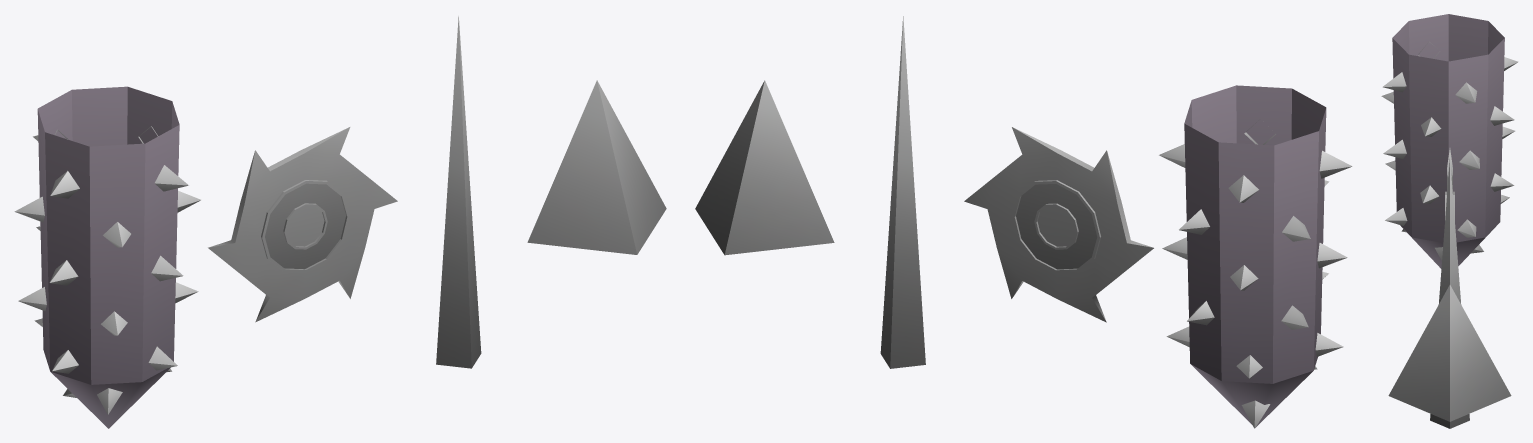
File: Trap.fbx
3 renders of one model, left to right at view 1: azimuth 30°, elevation 25°; view 2: azimuth 150°, elevation 25°; view 3: azimuth 270°, elevation 25°, orthographic. The views are drawn at different scales.
Parts seen in each view (by area): view 1: ThornyTrap, Saw, SmallTrap, BigTrap; view 2: ThornyTrap, Saw, SmallTrap, BigTrap; view 3: ThornyTrap, SmallTrap, BigTrap, Saw.
Part boxes in pixels (x1,y1,x2,y2): ThornyTrap: (14,86,200,428); Saw: (208,127,397,322); SmallTrap: (527,80,666,254); BigTrap: (436,16,481,368); ThornyTrap: (1159,85,1352,428); Saw: (964,127,1153,322); SmallTrap: (695,80,834,255); BigTrap: (880,16,925,368); ThornyTrap: (1381,14,1518,268); SmallTrap: (1388,285,1511,421); BigTrap: (1430,159,1469,428); Saw: (1445,148,1454,219).
Size of the model in its own units: 914 by 473 by 224.
1 material, 1 textured.
